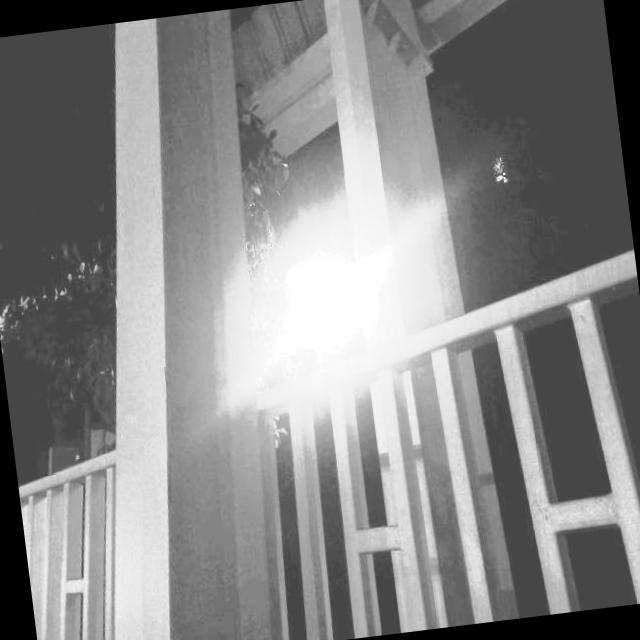Light: (274, 235, 389, 482)
